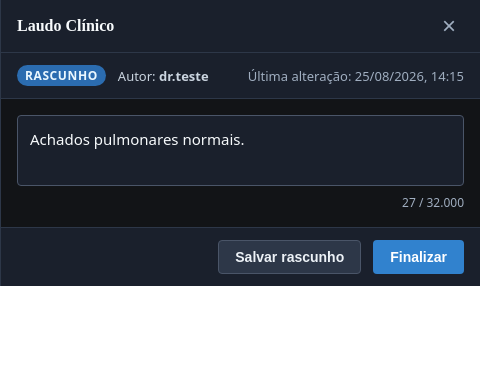
Test: ReportPanel › Phase Transitions and Error Handling › renders localized 409 conflict error without discarding local text
Replace the text in the text box named "Conteúdo do laudo" with "Alteração local" at [240, 150], box [17,115,464,186]
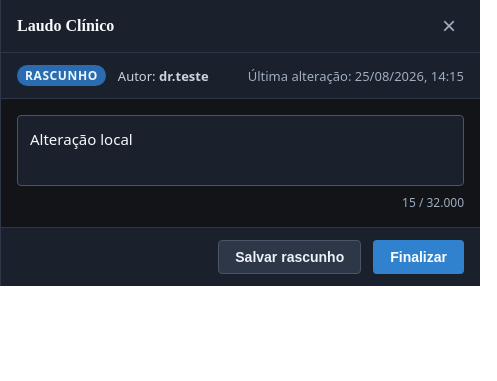
Click the button with test id "save-draft-button" at [290, 257], box [218,240,361,274]
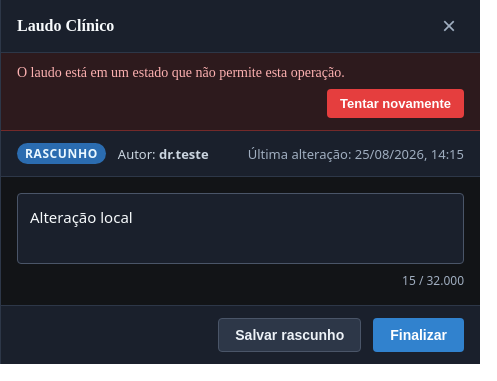
Check: the message "O laudo está em um estado que não permite esta operação. Tentar novamente" is shown, box [1,53,480,131]
Check: the message with test id "report-error" shows "O laudo está em um estado que não permite esta operação.", box [17,65,345,80]
